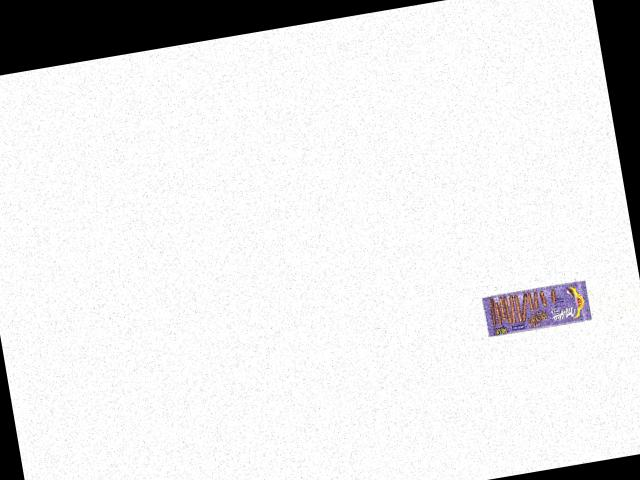chocolate: (478, 274, 593, 338)
